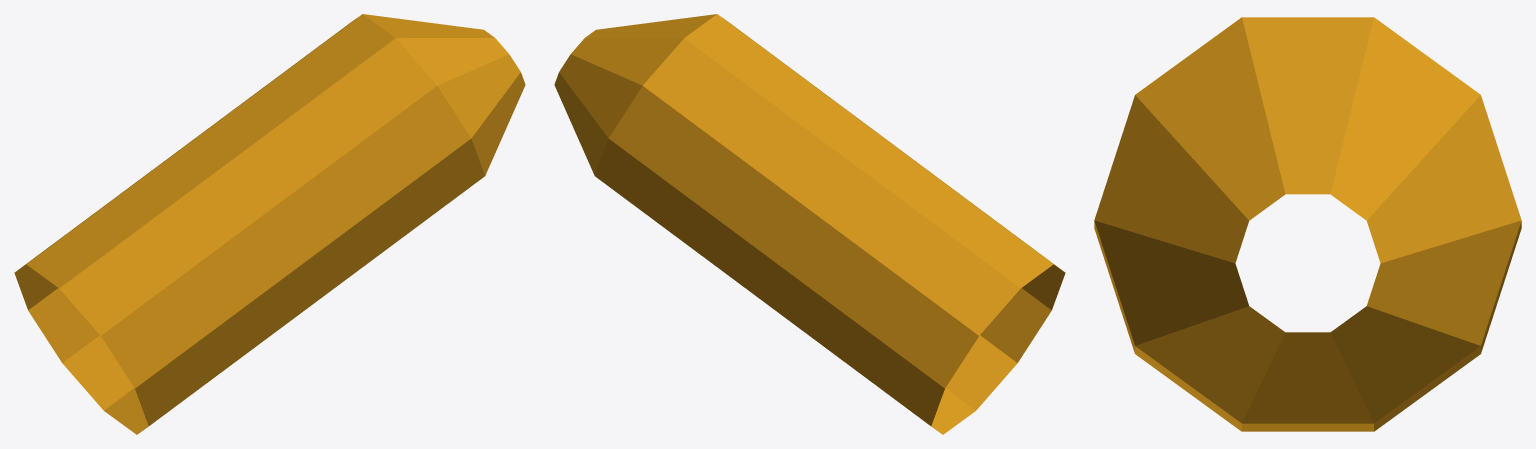
File: Mothership_02_Joint_Yellow.fbx
3 views of the same model, side by side, from view 1: azimuth 30°, elevation 25°; view 2: azimuth 150°, elevation 25°; view 3: azimuth 270°, elevation 25° (orthographic). The views are drawn at different scales.
Visible parts, largest first — view 1: Mothership_02_Joint_Yellow; view 2: Mothership_02_Joint_Yellow; view 3: Mothership_02_Joint_Yellow.
Boxes of the visible parts, box(x1,y1,x2,y2) form: Mothership_02_Joint_Yellow: box(14, 14, 525, 434); Mothership_02_Joint_Yellow: box(554, 14, 1065, 434); Mothership_02_Joint_Yellow: box(1094, 17, 1521, 431).
Size of the model in its own units: 231 by 155 by 90.16.
Materials: 1 (1 with a texture image).
